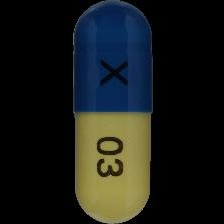69189-0021: (0, 0, 224, 224)
